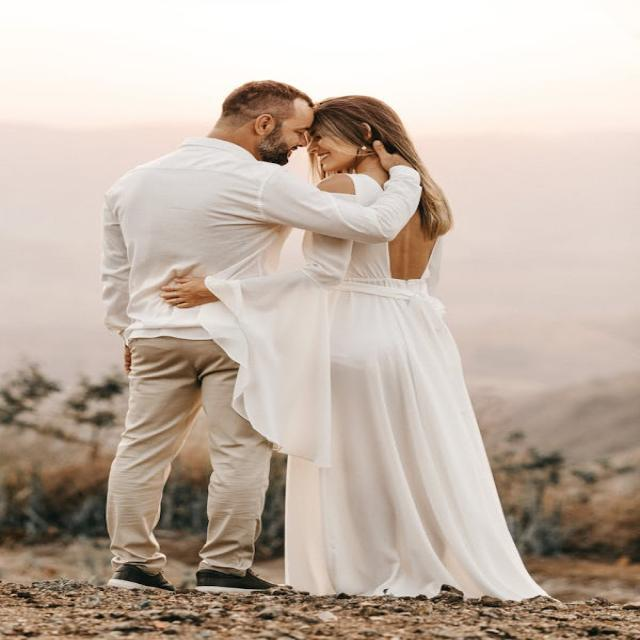Real human 2: (86, 71, 582, 621)
